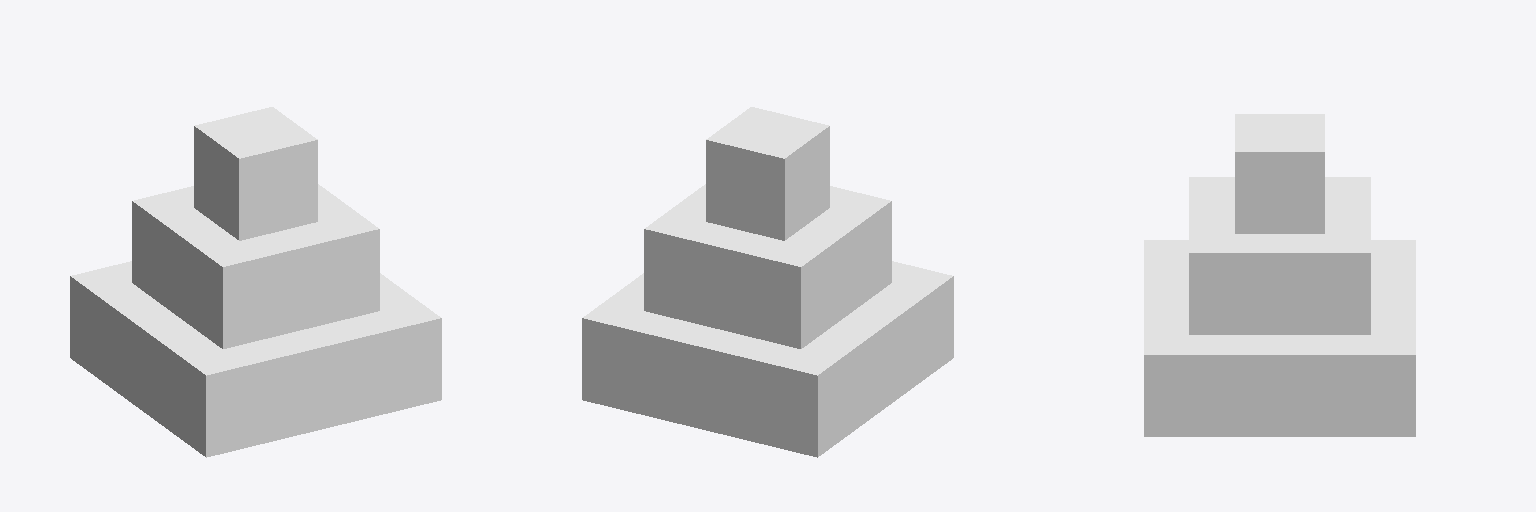
File: MiddleBlock.obj
3 renders of one model, left to right at view 1: azimuth 30°, elevation 25°; view 2: azimuth 150°, elevation 25°; view 3: azimuth 270°, elevation 25°, orthographic.
Parts seen in each view (by area): view 1: object 1; view 2: object 1; view 3: object 1.
Boxes of the visible parts, x1=… form: object 1: x1=70, y1=107, x2=441, y2=457; object 1: x1=582, y1=107, x2=953, y2=457; object 1: x1=1144, y1=114, x2=1415, y2=436.
Size of the model in its own units: 0.6 by 0.6 by 0.6.